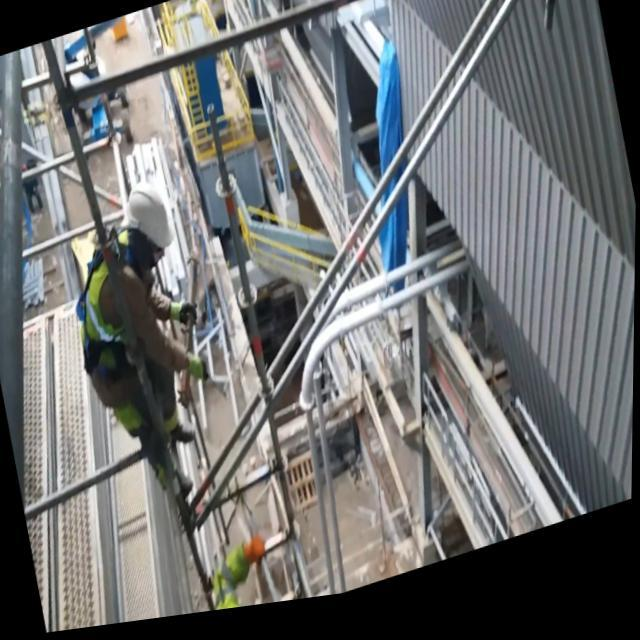belt: (54, 208, 168, 424)
